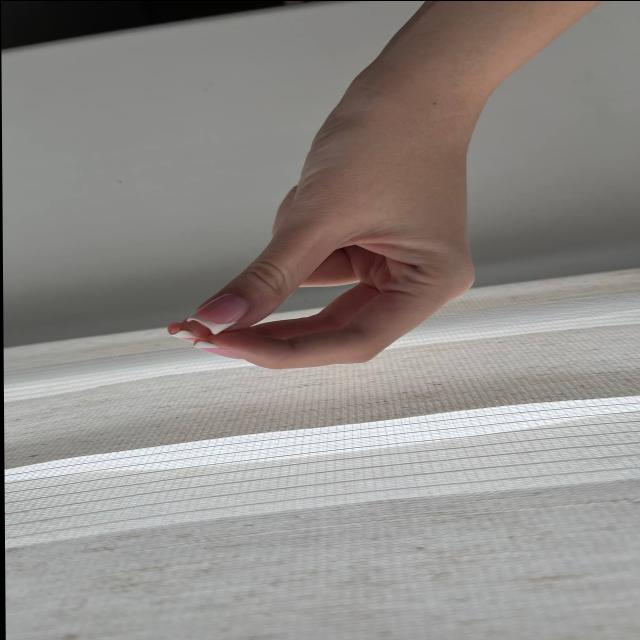ch: (112, 111, 520, 382)
